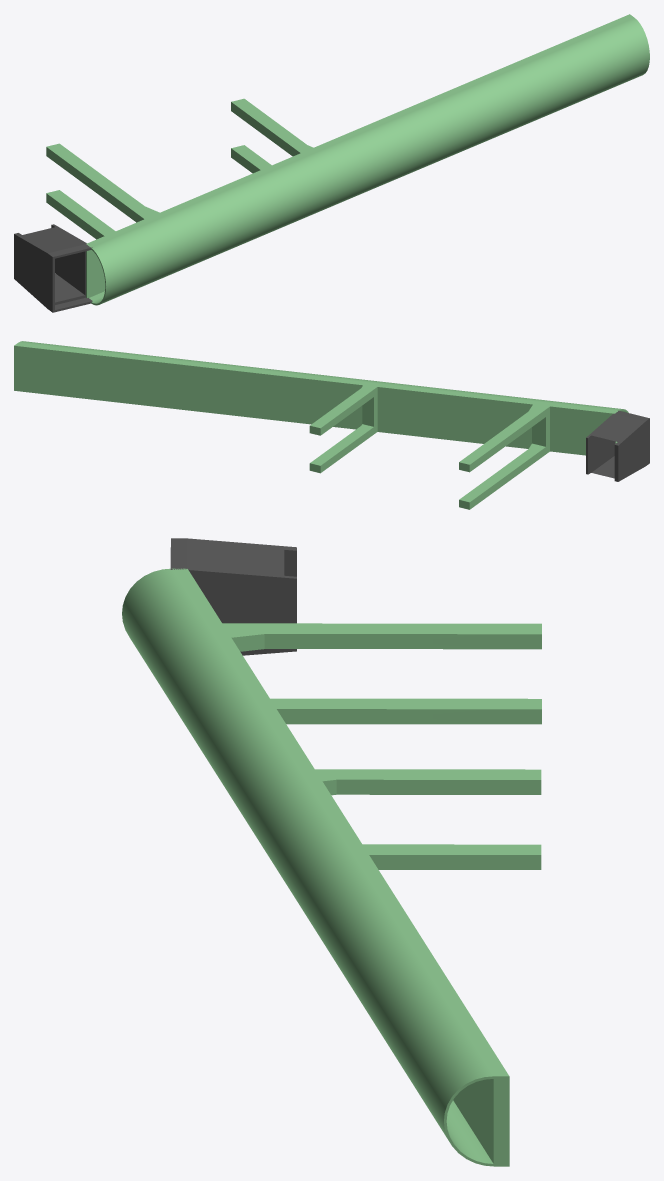
Rendered from rullo3.glb.
3 views of the same model, one above another, from view 1: azimuth 30°, elevation 25°; view 2: azimuth 150°, elevation 25°; view 3: azimuth 270°, elevation 25° (orthographic). The views are drawn at different scales.
Parts seen in each view (by area): view 1: Body1, Tramoggia Rullo 3.001; view 2: Body1, Tramoggia Rullo 3.001; view 3: Body1, Tramoggia Rullo 3.001.
Boxes of the visible parts, x1,y1,x2,y2 form: Body1: (46,14,649,305); Tramoggia Rullo 3.001: (14,224,92,312); Body1: (14,341,628,509); Tramoggia Rullo 3.001: (586,410,649,481); Body1: (122,568,541,1166); Tramoggia Rullo 3.001: (170,538,296,655).
Bounding box in the file's own units: 0.1537 × 0.012 × 0.0507.
